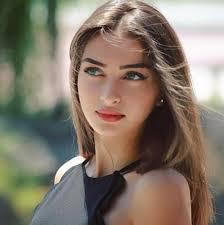face: (78, 34, 159, 137)
